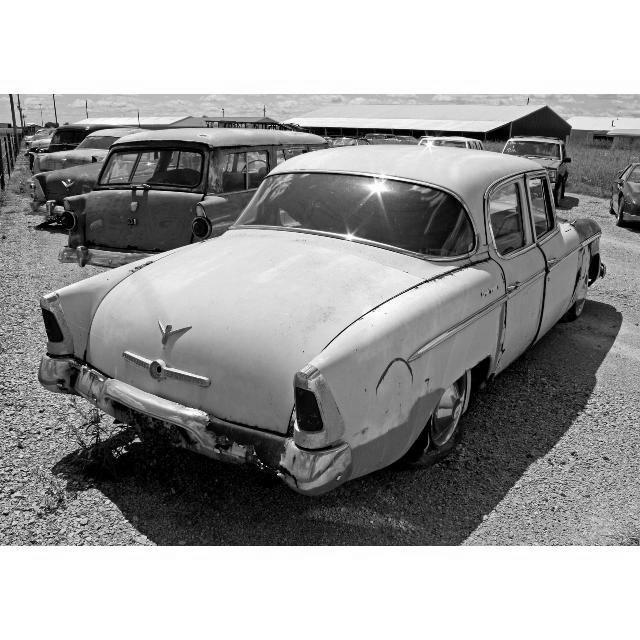rear-bumper-dent: (69, 398, 338, 480)
